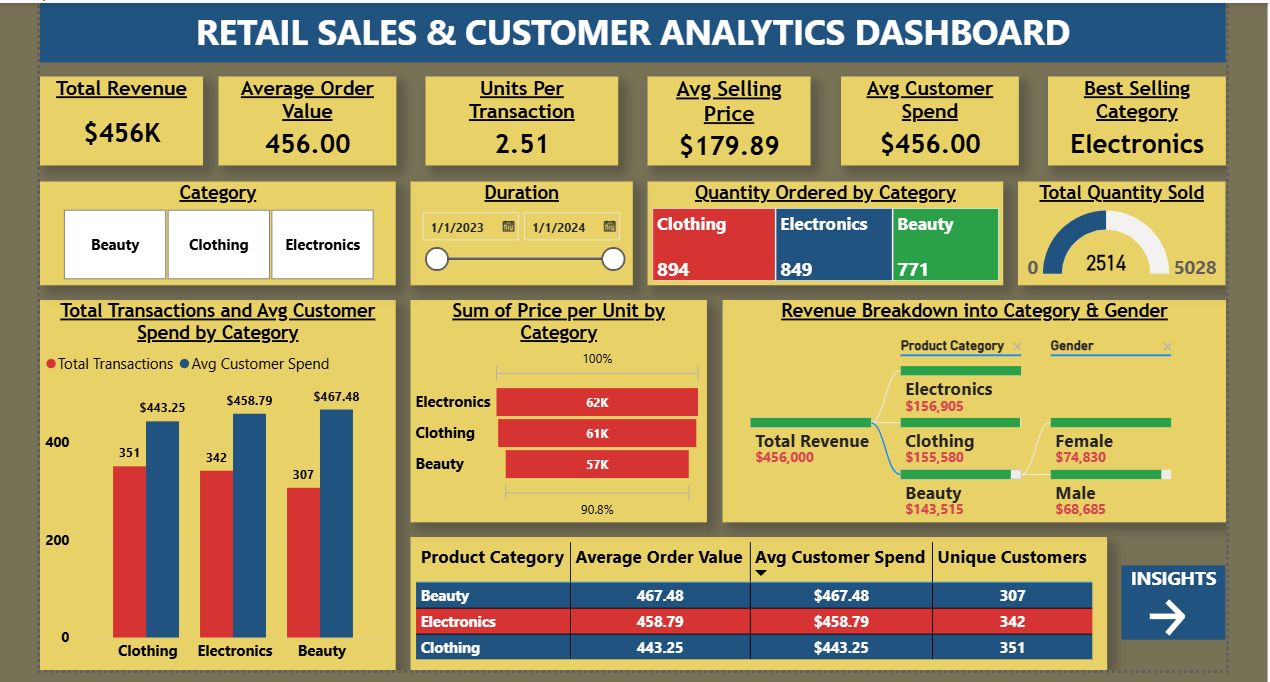

This screenshot's page, from the dashboard's own definition file:
{"tool":"powerbi","page":{"name":"DASHBOARD","canvas":[1280,720],"ordinal":0},"visuals":[{"type":"textbox","box":[0,0,1280,64],"z":0},{"type":"card","title":"Total Revenue","fields":{"Values":["retail_sales_dataset.Total Revenue"]},"box":[0,80,176,96],"z":1000},{"type":"card","title":"Average Order Value","fields":{"Values":["retail_sales_dataset.Average Order Value"]},"box":[192,80,192,96],"z":2000},{"type":"card","title":"Avg Selling Price","fields":{"Values":["retail_sales_dataset.Avg Selling Price"]},"box":[656,80,176,96],"z":3000},{"type":"card","title":"Avg Customer Spend","fields":{"Values":["retail_sales_dataset.Avg Customer Spend"]},"box":[864,80,192,96],"z":4000},{"type":"card","title":"Best Selling Category","fields":{"Values":["retail_sales_dataset.Best Selling Category"]},"box":[1088,80,192,96],"z":5000},{"type":"card","title":"Units Per Transaction","fields":{"Values":["retail_sales_dataset.Units per Transaction"]},"box":[416,80,208,96],"z":6000},{"type":"clusteredColumnChart","title":"Total Transactions and Avg Customer Spend by Category","fields":{"Category":["retail_sales_dataset.Product Category"],"Y":["retail_sales_dataset.Total Transactions","retail_sales_dataset.Avg Customer Spend"]},"box":[0,320,384,400],"z":7000},{"type":"tableEx","fields":{"Values":["retail_sales_dataset.Product Category","retail_sales_dataset.Average Order Value","retail_sales_dataset.Avg Customer Spend","retail_sales_dataset.Unique Customers"]},"box":[400,576,752,144],"z":8000},{"type":"treemap","title":"Quantity Ordered by Category","fields":{"Values":["Sum(retail_sales_dataset.Quantity)"],"Details":["retail_sales_dataset.Product Category"]},"box":[656,192,384,112],"z":9000},{"type":"decompositionTreeVisual","title":"Revenue Breakdown into Category & Gender","fields":{"Analyze":["retail_sales_dataset.Total Revenue"],"ExplainBy":["retail_sales_dataset.Product Category","retail_sales_dataset.Gender"]},"box":[736,320,544,240],"z":10000},{"type":"slicer","title":"Duration","fields":{"Values":["retail_sales_dataset.Date"]},"box":[400,192,240,112],"z":11000},{"type":"gauge","fields":{"Y":["retail_sales_dataset.Total Quantity Sold"]},"box":[1056,192,224,112],"z":12000},{"type":"funnel","title":"Sum of Price per Unit by Category","fields":{"Category":["retail_sales_dataset.Product Category"],"Y":["Sum(retail_sales_dataset.Price per Unit)"]},"box":[400,320,320,240],"z":13000},{"type":"slicer","title":"Category","fields":{"Values":["retail_sales_dataset.Product Category"]},"box":[0,192,384,112],"z":14000},{"type":"textbox","box":[1168,608,112,80],"z":15000},{"type":"actionButton","title":"INSIGHTS","box":[1168,608,112,80],"z":16000}]}

Visuals, with their boxes in screenshot pixels (x1, y1, x2, y2):
textbox: x1=33, y1=17, x2=1228, y2=76
"Total Revenue" card: x1=33, y1=91, x2=197, y2=181
"Average Order Value" card: x1=212, y1=91, x2=391, y2=181
"Avg Selling Price" card: x1=645, y1=91, x2=809, y2=181
"Avg Customer Spend" card: x1=839, y1=91, x2=1018, y2=181
"Best Selling Category" card: x1=1048, y1=91, x2=1228, y2=181
"Units Per Transaction" card: x1=421, y1=91, x2=615, y2=181
"Total Transactions and Avg Customer Spend by Category" clusteredColumnChart: x1=33, y1=315, x2=391, y2=681
tableEx - retail_sales_dataset.Product Category x retail_sales_dataset.Average Order Value: x1=406, y1=554, x2=1108, y2=681
"Quantity Ordered by Category" treemap: x1=645, y1=196, x2=1004, y2=300
"Revenue Breakdown into Category & Gender" decompositionTreeVisual: x1=720, y1=315, x2=1228, y2=539
"Duration" slicer: x1=406, y1=196, x2=630, y2=300
gauge - retail_sales_dataset.Total Quantity Sold: x1=1018, y1=196, x2=1228, y2=300
"Sum of Price per Unit by Category" funnel: x1=406, y1=315, x2=705, y2=539
"Category" slicer: x1=33, y1=196, x2=391, y2=300
textbox: x1=1123, y1=584, x2=1228, y2=659
"INSIGHTS" actionButton: x1=1123, y1=584, x2=1228, y2=659
